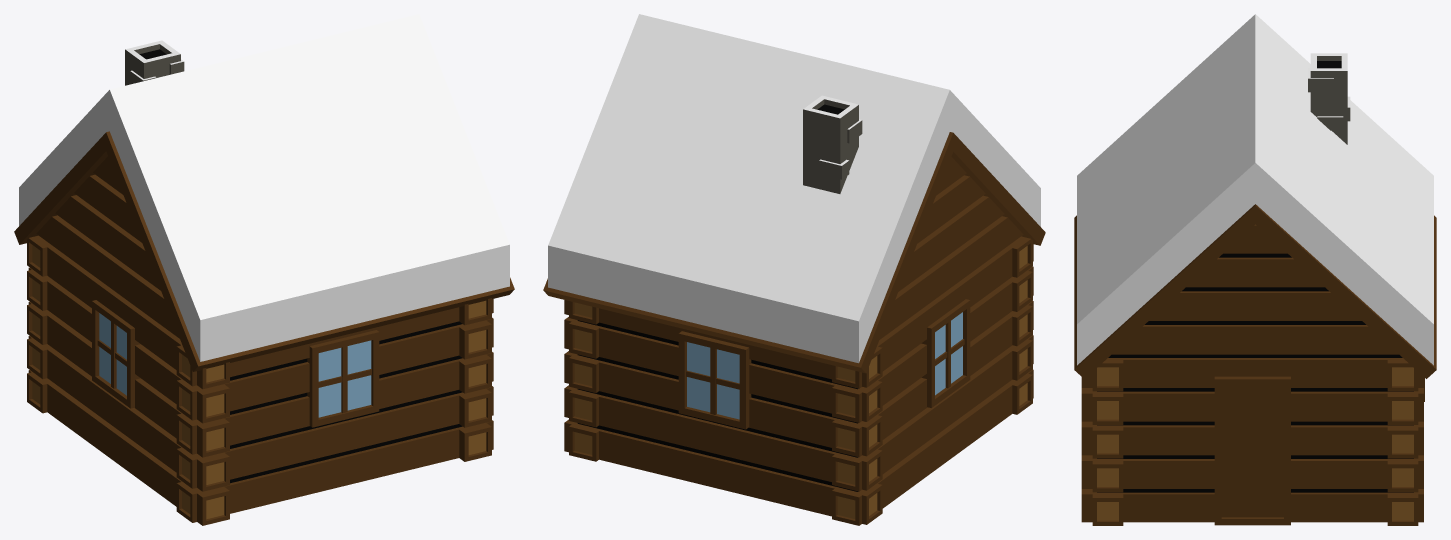
Rendered from WinterCabin.fbx.
3 views of the same model, side by side, from view 1: azimuth 30°, elevation 25°; view 2: azimuth 150°, elevation 25°; view 3: azimuth 270°, elevation 25° (orthographic).
Visible parts, largest first — view 1: WinterCabin; view 2: WinterCabin; view 3: WinterCabin.
Part boxes in pixels (x1,y1,x2,y2): WinterCabin: (14, 14, 514, 525); WinterCabin: (543, 14, 1045, 525); WinterCabin: (1074, 14, 1436, 525).
Size of the model in its own units: 0.617 by 0.6945 by 0.6216.
